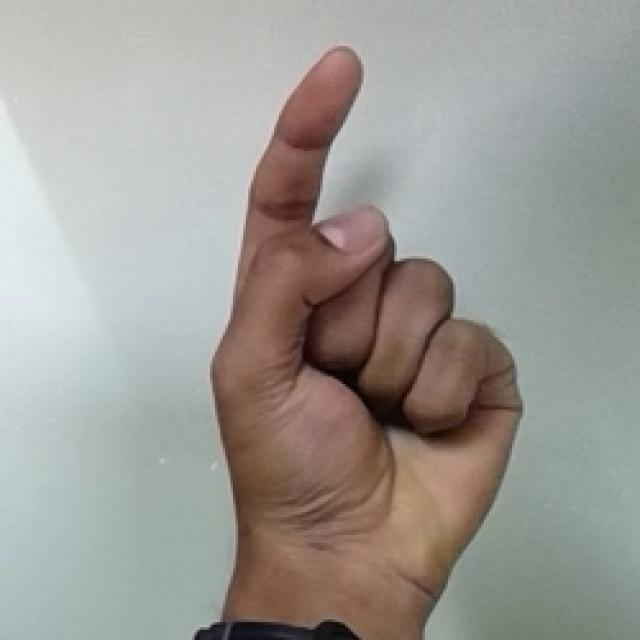Numeric-1: (215, 49, 522, 596)
